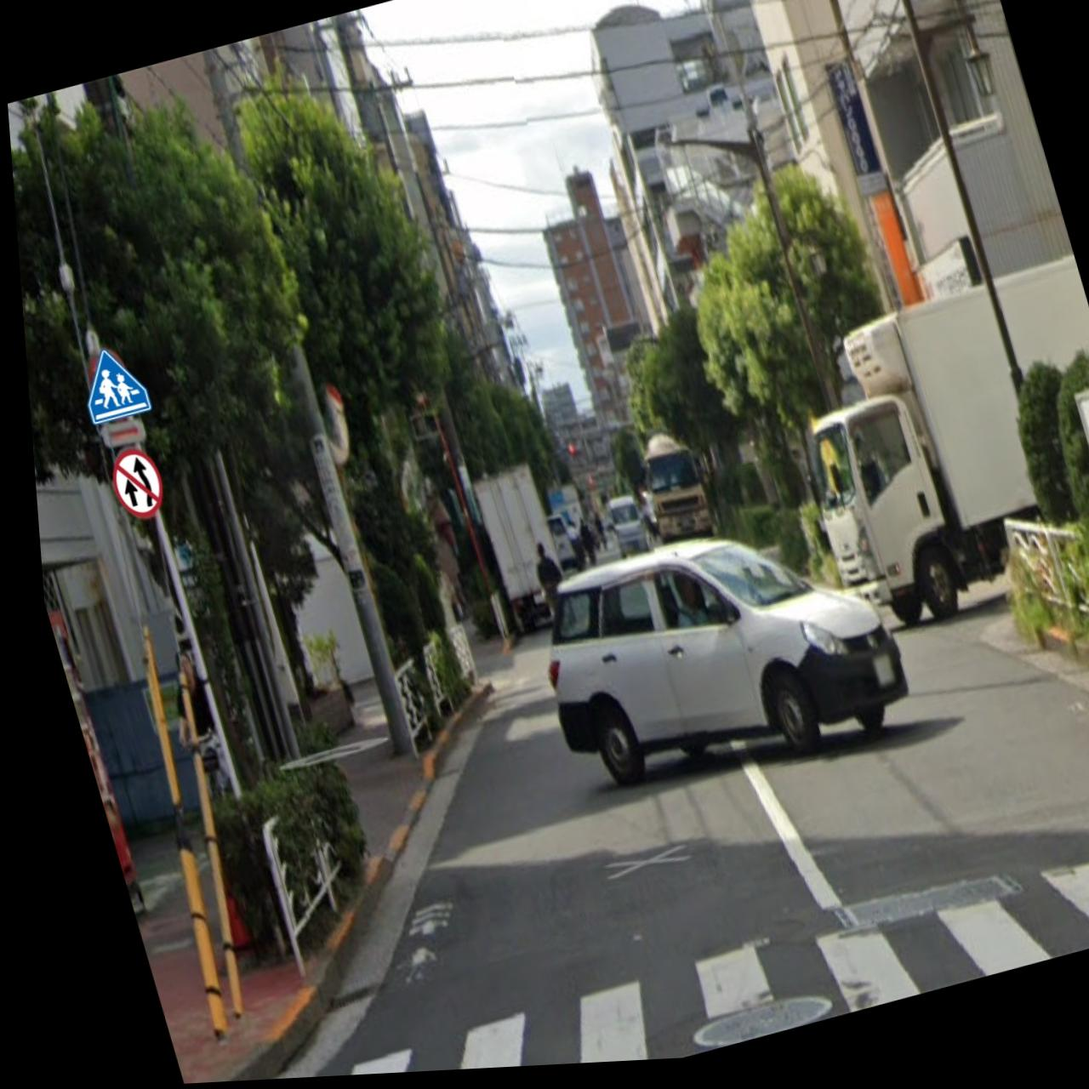cone: (41, 194, 136, 623)
